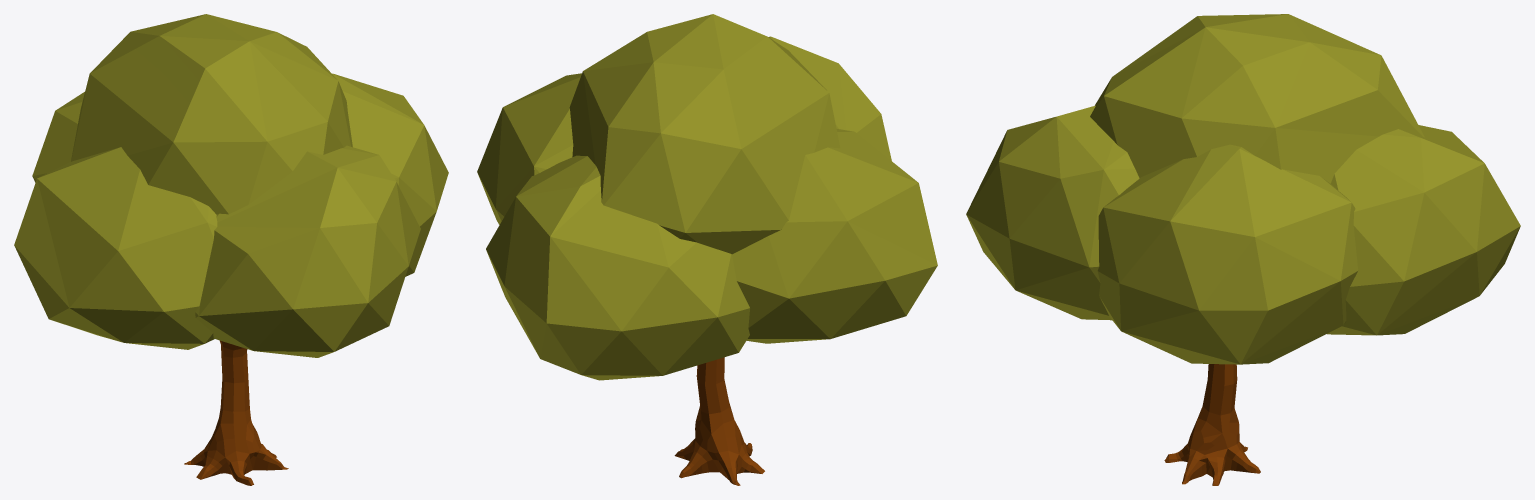
Rendered from OAK TREE2.fbx.
3 renders of one model, left to right at view 1: azimuth 30°, elevation 25°; view 2: azimuth 150°, elevation 25°; view 3: azimuth 270°, elevation 25°, orthographic. The views are drawn at different scales.
Parts seen in each view (by area): view 1: oakTree.001, oakTree; view 2: oakTree.001, oakTree; view 3: oakTree.001, oakTree.
Boxes of the visible parts, x1=… form: oakTree.001: x1=14, y1=14, x2=448, y2=357; oakTree: x1=184, y1=340, x2=288, y2=485; oakTree.001: x1=477, y1=14, x2=937, y2=380; oakTree: x1=674, y1=357, x2=764, y2=485; oakTree.001: x1=966, y1=14, x2=1520, y2=364; oakTree: x1=1164, y1=364, x2=1260, y2=485.
Size of the model in its own units: 1283 by 1319 by 1497.
